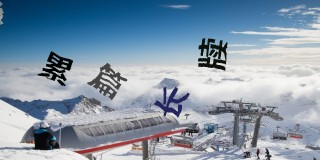牍: (195, 37, 230, 74)
篇: (86, 62, 129, 101)
累: (38, 50, 73, 87)
长: (153, 85, 191, 118)
